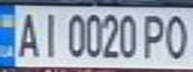0: (118, 10, 142, 60), (84, 10, 106, 60), (63, 10, 84, 58)
2: (103, 10, 121, 60)
A: (12, 8, 42, 60)
I: (36, 9, 60, 58)
O: (163, 11, 193, 61)
P: (139, 11, 169, 61)
